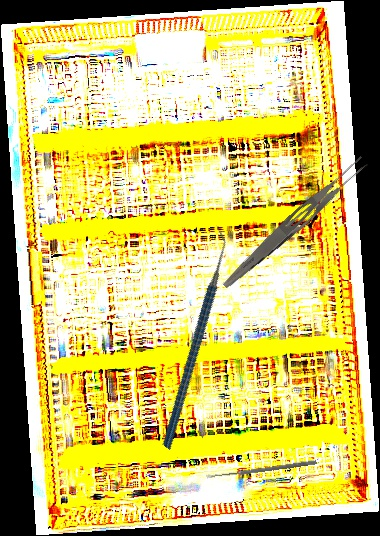Chopper: (94, 224, 291, 450)
Dressing Forceps: (219, 152, 371, 296)
Surgical Spoon: (206, 459, 317, 480)
